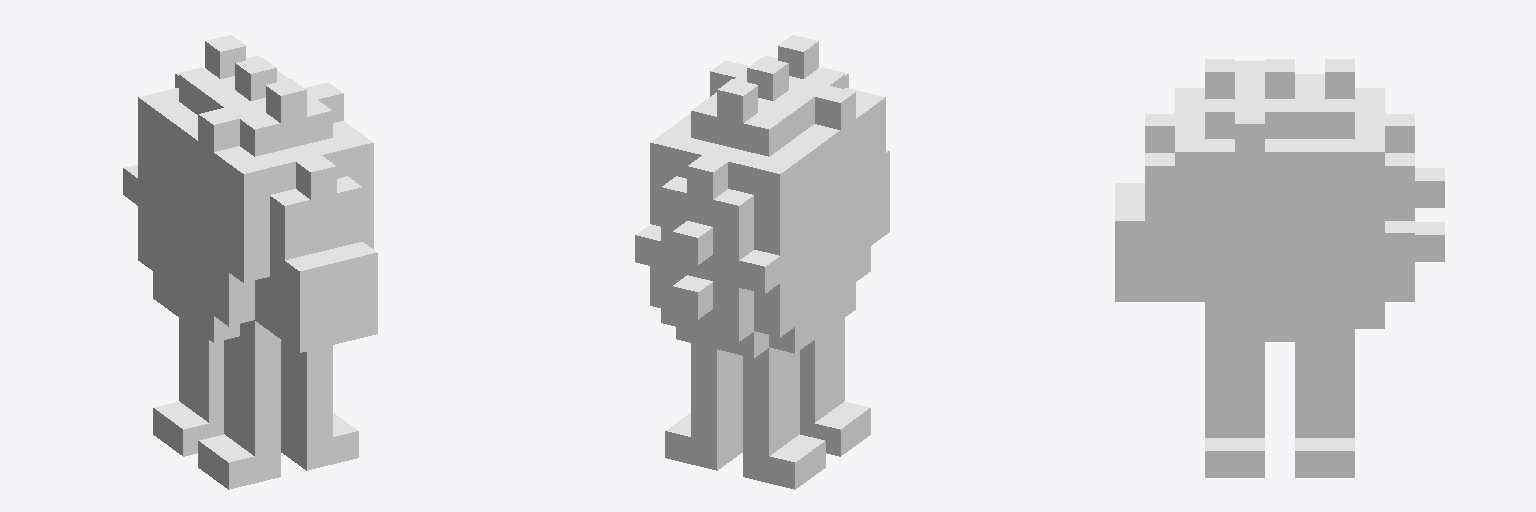
File: TransportThornmail.obj
3 views of the same model, side by side, from view 1: azimuth 30°, elevation 25°; view 2: azimuth 150°, elevation 25°; view 3: azimuth 270°, elevation 25° (orthographic).
Parts seen in each view (by area): view 1: object 1; view 2: object 1; view 3: object 1.
Boxes of the visible parts, x1,y1,x2,y2 form: object 1: [123, 35, 377, 489]; object 1: [635, 35, 889, 489]; object 1: [1115, 59, 1444, 477].
Bounding box in the file's own units: 0.5 × 1.4 × 1.1.